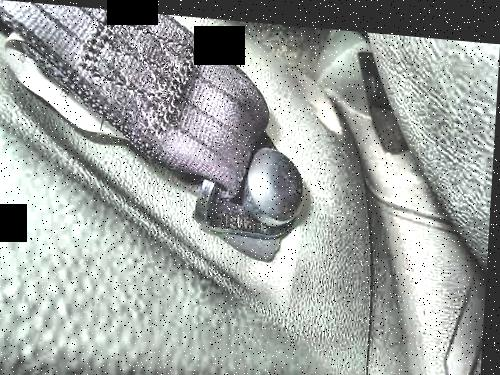seatbelt: (4, 9, 331, 246)
